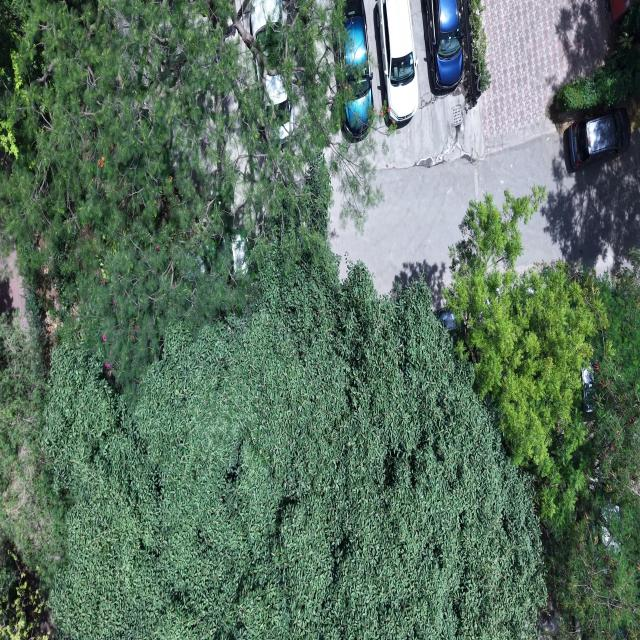VEGETATION_TREE: (0, 0, 639, 639), (0, 0, 545, 637), (0, 0, 343, 598), (46, 230, 545, 639), (45, 223, 472, 633), (0, 0, 343, 389), (2, 2, 259, 383), (446, 188, 639, 639), (445, 187, 605, 526), (545, 252, 639, 638), (0, 315, 64, 639), (0, 316, 63, 584), (546, 492, 639, 639), (330, 29, 396, 232), (590, 250, 639, 491), (557, 5, 639, 111), (329, 135, 382, 232), (0, 540, 51, 639), (465, 0, 490, 92), (0, 0, 19, 96), (0, 0, 19, 95)
